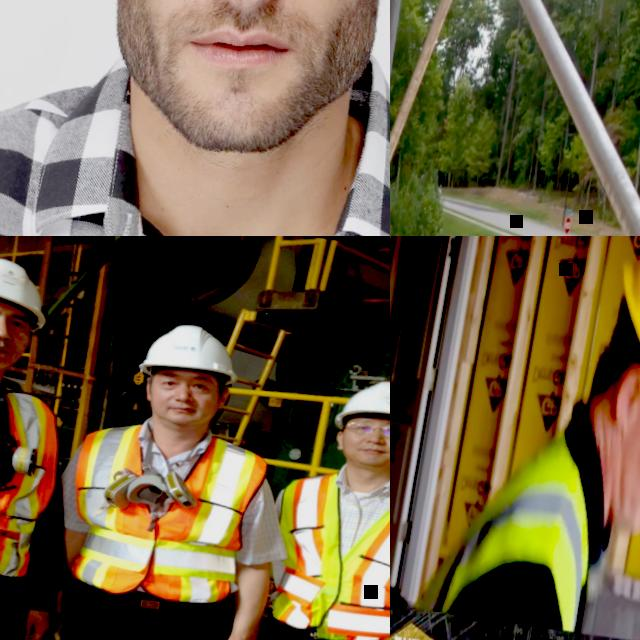Hardhat: (591, 236, 640, 482), (133, 318, 246, 386), (0, 249, 58, 320), (334, 373, 390, 435)
NO-Mask: (99, 0, 365, 168), (608, 436, 640, 536), (153, 397, 209, 430), (339, 442, 390, 470), (0, 335, 24, 368)
NO-Safety Vest: (0, 68, 390, 236)
Person: (3, 302, 321, 640), (0, 0, 390, 236), (419, 236, 640, 640), (208, 359, 390, 640), (0, 238, 113, 640)
Safety Vest: (56, 416, 274, 614), (420, 421, 609, 633), (258, 464, 390, 640), (0, 354, 79, 587)
